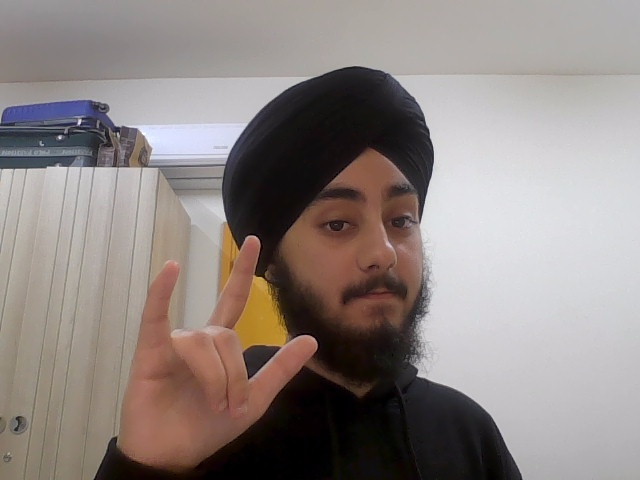ILoveYou: (122, 232, 320, 465)
